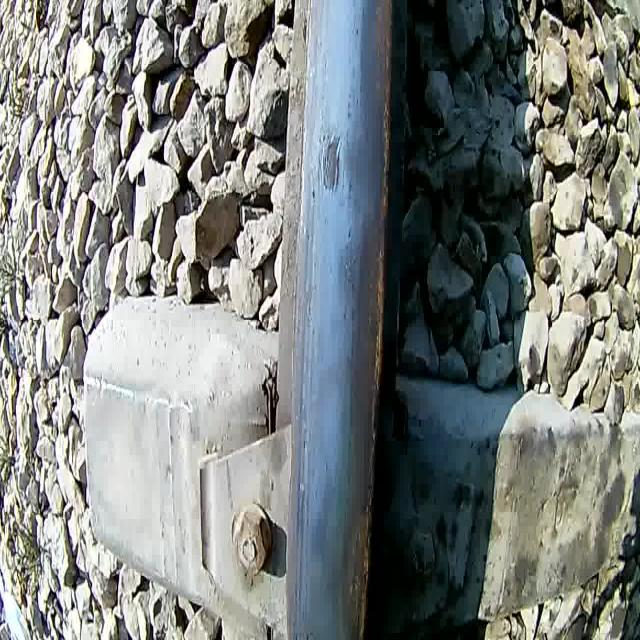Cracks: (331, 132, 342, 196)
Squats: (316, 128, 346, 196)
